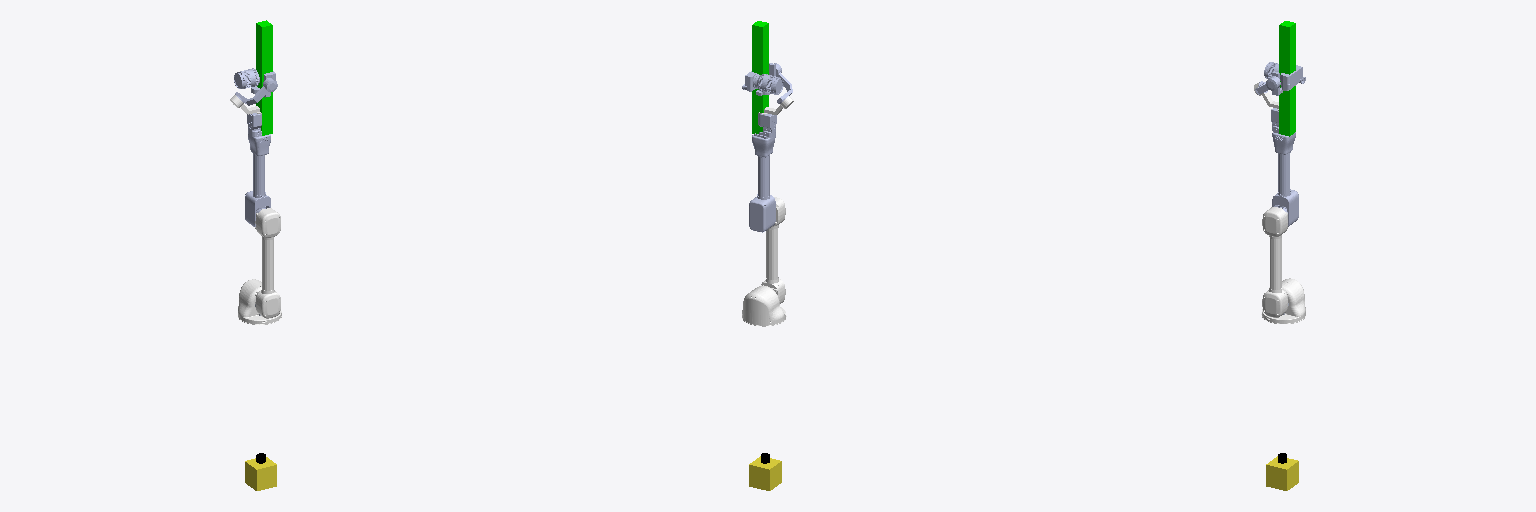
The robot description file, URDF, robot "recomoProto2-1190":
<?xml version="1.0" encoding="utf-8"?>
<!--
  RecomoProto2-190 MoveIt URDF

  Completed to match the current planning stack expectations:
  - planar mobile base virtual joints
  - arm_base_link mounting link
  - joint6/joint5/... naming convention
  - ee_tool and ee1_tool virtual tool links
-->
<robot
  name="recomoProto2-1190">
  <link name="base_root">
    <inertial>
      <origin xyz="0 0 0" rpy="0 0 0"/>
      <mass value="0.001"/>
      <inertia ixx="1e-08" ixy="0" ixz="0" iyy="1e-08" iyz="0" izz="1e-08"/>
    </inertial>
    <visual>
      <origin xyz="0 0 0" rpy="0 0 0"/>
      <geometry><box size="0.00 0.00 0.00"/></geometry>
      <material name="world_material">
        <color rgba="0.2 0.2 0.2 1"/>
      </material>
    </visual>
    <collision>
      <origin xyz="0 0 0" rpy="0 0 0"/>
      <geometry><box size="0.00 0.00 0.00"/></geometry>
    </collision>
  </link>

  <link name="base_vx_link">
    <inertial>
      <origin xyz="0 0 0" rpy="0 0 0"/>
      <mass value="0.1"/>
      <inertia ixx="0.0001" ixy="0" ixz="0" iyy="0.0001" iyz="0" izz="0.0001"/>
    </inertial>
    <visual>
      <origin xyz="0 0 0" rpy="0 0 0"/>
      <geometry><box size="0.00 0.00 0.00"/></geometry>
      <material name="base_gray_material">
        <color rgba="0.5 0.5 0.5 1"/>
      </material>
    </visual>
    <collision>
      <origin xyz="0 0 0" rpy="0 0 0"/>
      <geometry><box size="0.00 0.00 0.00"/></geometry>
    </collision>
  </link>

  <link name="base_vy_link">
    <inertial>
      <origin xyz="0 0 0" rpy="0 0 0"/>
      <mass value="0.1"/>
      <inertia ixx="0.0001" ixy="0" ixz="0" iyy="0.0001" iyz="0" izz="0.0001"/>
    </inertial>
    <visual>
      <origin xyz="0 0 0" rpy="0 0 0"/>
      <geometry><box size="0.00 0.00 0.00"/></geometry>
      <material name="base_gray_material">
        <color rgba="0.5 0.5 0.5 1"/>
      </material>
    </visual>
    <collision>
      <origin xyz="0 0 0" rpy="0 0 0"/>
      <geometry><box size="0.00 0.00 0.00"/></geometry>
    </collision>
  </link>

  <link name="base_wz_link">
    <inertial>
      <origin xyz="0 0 0" rpy="0 0 0"/>
      <mass value="0.1"/>
      <inertia ixx="0.0001" ixy="0" ixz="0" iyy="0.0001" iyz="0" izz="0.0001"/>
    </inertial>
    <visual>
      <origin xyz="0 0 2.000" rpy="0 0 0"/>
      <geometry><box size="0.00 0.00 0.00"/></geometry>
      <material name="base_gray_material">
        <color rgba="0.5 0.5 0.5 1"/>
      </material>
    </visual>
    <collision>
      <origin xyz="0 0 2.000" rpy="0 0 0"/>
      <geometry><box size="0.00 0.00 0.00"/></geometry>
    </collision>
  </link>

  <joint name="base_joint_vx" type="prismatic">
    <origin xyz="0 0 0" rpy="0 0 0" />
    <parent link="base_root" />
    <child link="base_vx_link" />
    <axis xyz="1 0 0" />
    <limit lower="-100" upper="100" effort="200" velocity="2.0" />
  </joint>

  <joint name="base_joint_vy" type="prismatic">
    <origin xyz="0 0 0" rpy="0 0 0" />
    <parent link="base_vx_link" />
    <child link="base_vy_link" />
    <axis xyz="0 1 0" />
    <limit lower="-100" upper="100" effort="200" velocity="2.0" />
  </joint>

  <joint name="base_joint_wz" type="continuous">
    <origin xyz="0 0 0" rpy="0 0 0" />
    <parent link="base_vy_link" />
    <child link="base_wz_link" />
    <axis xyz="0 0 1" />
    <limit lower="-3.1416" upper="3.1416" effort="30.0" velocity="0.5" />
  </joint>

  <link
    name="base_link">
    <inertial>
      <origin
        xyz="0.0055307 0.01516 0.31097"
        rpy="0 0 0" />
      <mass
        value="20" />
      <inertia
        ixx="0.14156"
        ixy="8.5545E-05"
        ixz="0.00013573"
        iyy="0.14292"
        iyz="-1.9204E-06"
        izz="0.19802" />
    </inertial>
    <visual>
      <origin
        xyz="0 0 0"
        rpy="0 0 0" />
      <geometry>
        <mesh
          filename="meshes/recomoProto2-190/base_link.STL" />
      </geometry>
      <material
        name="">
        <color
          rgba="1 1 1 1" />
      </material>
    </visual>
    <collision>
      <origin
        xyz="0 0 0"
        rpy="0 0 0" />
      <geometry>
        <mesh
          filename="meshes/recomoProto2-190/base_link.STL" />
      </geometry>
    </collision>
  </link>

  <joint name="base_link_fixed" type="fixed">
    <origin xyz="0 0 0" rpy="0 0 0" />
    <parent link="base_wz_link" />
    <child link="base_link" />
  </joint>

  <link
    name="arm_base_link">
    <inertial>
      <origin
        xyz="-0.00014044 0.00033905 -0.038979"
        rpy="0 0 0" />
      <mass
        value="0.095731" />
      <inertia
        ixx="3.5316E-05"
        ixy="1.4007E-17"
        ixz="-4.2483E-18"
        iyy="3.5316E-05"
        iyz="-1.3664E-18"
        izz="3.0657E-05" />
    </inertial>
    <visual>
      <origin
        xyz="0 0 0"
        rpy="0 0 0" />
      <geometry>
        <mesh
          filename="meshes/arm_base_Link.STL" />
      </geometry>
      <material
        name="">
        <color
          rgba="0.81176 0.84314 0.9098 1" />
      </material>
    </visual>
    <collision>
      <origin
        xyz="0 0 0"
        rpy="0 0 0" />
      <geometry>
        <mesh
          filename="meshes/arm_base_Link.STL" />
      </geometry>
    </collision>
  </link>

  <joint name="arm_base_joint" type="fixed">
    <origin
      xyz="0 0.01 0.7938"
      rpy="0 0 0" />
    <parent
      link="base_link" />
    <child
      link="arm_base_link" />
  </joint>

  <link
    name="arm_link_1">
    <inertial>
      <origin
        xyz="-0.00027729 0.01005 0.060567"
        rpy="0 0 0" />
      <mass
        value="0.91" />
      <inertia
        ixx="0.0007315"
        ixy="4.0673E-06"
        ixz="-1.703E-06"
        iyy="0.00068148"
        iyz="-7.0581E-05"
        izz="0.00062056" />
    </inertial>
    <visual>
      <origin
        xyz="0 0 0"
        rpy="0 0 0" />
      <geometry>
        <mesh
          filename="meshes/recomoProto2-190/arm_link_1.STL" />
      </geometry>
      <material
        name="">
        <color
          rgba="1 1 1 1" />
      </material>
    </visual>
    <collision>
      <origin
        xyz="0 0 0"
        rpy="0 0 0" />
      <geometry>
        <mesh
          filename="meshes/recomoProto2-190/arm_link_1.STL" />
      </geometry>
    </collision>
  </link>

  <joint name="joint6_arm_yaw" type="revolute">
    <origin
      xyz="0 0 0"
      rpy="0 0 0" />
    <parent
      link="arm_base_link" />
    <child
      link="arm_link_1" />
    <axis
      xyz="0 0 1" />
    <limit
      lower="-3.1416"
      upper="3.1416"
      effort="30"
      velocity="0.5" />
  </joint>

  <link
    name="arm_link_2">
    <inertial>
      <origin
        xyz="2.2679E-08 0.19924 0.037556"
        rpy="0 0 0" />
      <mass
        value="0.61" />
      <inertia
        ixx="0.0030576"
        ixy="6.4503E-08"
        ixz="-5.9336E-11"
        iyy="0.0003437"
        iyz="-1.2481E-10"
        izz="0.0031487" />
    </inertial>
    <visual>
      <origin
        xyz="0 0 0"
        rpy="0 0 0" />
      <geometry>
        <mesh
          filename="meshes/recomoProto2-190/arm_link_2.STL" />
      </geometry>
      <material
        name="">
        <color
          rgba="1 1 1 1" />
      </material>
    </visual>
    <collision>
      <origin
        xyz="0 0 0"
        rpy="0 0 0" />
      <geometry>
        <mesh
          filename="meshes/recomoProto2-190/arm_link_2.STL" />
      </geometry>
    </collision>
  </link>

  <joint name="joint5_arm_pitch" type="revolute">
    <origin
      xyz="0 -0.028 0.07788"
      rpy="1.5708 0 0" />
    <parent
      link="arm_link_1" />
    <child
      link="arm_link_2" />
    <axis
      xyz="0 0 1" />
    <limit
      lower="-1.57"
      upper="1.57"
      effort="30"
      velocity="0.5" />
  </joint>

  <link
    name="arm_link_3">
    <inertial>
      <origin
        xyz="-0.004989 -0.21609 0.034665"
        rpy="0 0 0" />
      <mass
        value="1.27" />
      <inertia
        ixx="0.0016994"
        ixy="3.3526E-07"
        ixz="3.4668E-06"
        iyy="0.00057506"
        iyz="4.4555E-06"
        izz="0.0016877" />
    </inertial>
    <visual>
      <origin
        xyz="0 0 0"
        rpy="0 0 0" />
      <geometry>
        <mesh
          filename="meshes/recomoProto2-190/arm_link_3.STL" />
      </geometry>
      <material
        name="arm_link_3_material">
        <color
          rgba="0.79216 0.81961 0.93333 1" />
      </material>
    </visual>
    <collision>
      <origin
        xyz="0 0 0"
        rpy="0 0 0" />
      <geometry>
        <mesh
          filename="meshes/recomoProto2-190/arm_link_3.STL" />
      </geometry>
    </collision>
  </link>

  <joint name="joint4_elbow_pitch" type="revolute">
    <origin
      xyz="0 0.4 0"
      rpy="3.1416 0 0" />
    <parent
      link="arm_link_2" />
    <child
      link="arm_link_3" />
    <axis
      xyz="0 0 1" />
    <limit
      lower="-2.3562"
      upper="2.3562"
      effort="30.0"
      velocity="0.5" />
  </joint>

  <link
    name="arm_link_4">
    <inertial>
      <origin
        xyz="-0.070164 2.4195E-16 0.042022"
        rpy="0 0 0" />
      <mass
        value="0.45" />
      <inertia
        ixx="0.00013075"
        ixy="1.5223E-18"
        ixz="0.00017126"
        iyy="0.00044213"
        iyz="-9.537E-19"
        izz="0.00034462" />
    </inertial>
    <visual>
      <origin
        xyz="0 0 0"
        rpy="0 0 0" />
      <geometry>
        <mesh
          filename="meshes/recomoProto2-190/arm_link_4.STL" />
      </geometry>
      <material
        name="">
        <color
          rgba="1 1 1 1" />
      </material>
    </visual>
    <collision>
      <origin
        xyz="0 0 0"
        rpy="0 0 0" />
      <geometry>
        <mesh
          filename="meshes/recomoProto2-190/arm_link_4.STL" />
      </geometry>
    </collision>
  </link>

  <joint name="joint3_gimbal_yaw" type="revolute">
    <origin
      xyz="0 -0.47088 0.028"
      rpy="1.5708 0 0" />
    <parent
      link="arm_link_3" />
    <child
      link="arm_link_4" />
    <axis
      xyz="0 0 1" />
    <limit
      lower="-3.1416"
      upper="3.1416"
      effort="10.0"
      velocity="0.5" />
  </joint>

  <link
    name="arm_link_5">
    <inertial>
      <origin
        xyz="-0.0017203 -0.063107 0.072647"
        rpy="0 0 0" />
      <mass
        value="0.45" />
      <inertia
        ixx="0.0006156"
        ixy="-6.2991E-06"
        ixz="1.0648E-05"
        iyy="0.0004255"
        iyz="0.00023199"
        izz="0.00022502" />
    </inertial>
    <visual>
      <origin
        xyz="0 0 0"
        rpy="0 0 0" />
      <geometry>
        <mesh
          filename="meshes/recomoProto2-190/arm_link_5.STL" />
      </geometry>
      <material
        name="">
        <color
          rgba="0.79216 0.81961 0.93333 1" />
      </material>
    </visual>
    <collision>
      <origin
        xyz="0 0 0"
        rpy="0 0 0" />
      <geometry>
        <mesh
          filename="meshes/recomoProto2-190/arm_link_5.STL" />
      </geometry>
    </collision>
  </link>

  <joint name="joint2_gimbal_roll" type="revolute">
    <origin
      xyz="-0.099888 0 0.077538"
      rpy="0 0.94248 0" />
    <parent
      link="arm_link_4" />
    <child
      link="arm_link_5" />
    <axis
      xyz="0 0 1" />
    <limit
      lower="-3.2"
      upper="1.57"
      effort="10.0"
      velocity="0.5" />
  </joint>

  <link
    name="arm_link_6">
    <inertial>
      <origin
        xyz="-0.0050729 0.033014 0.045516"
        rpy="0 0 0" />
      <mass
        value="0.24" />
      <inertia
        ixx="0.0002457"
        ixy="9.9849E-06"
        ixz="1.7169E-05"
        iyy="0.0001741"
        iyz="-7.7172E-05"
        izz="0.0001101" />
    </inertial>
    <visual>
      <origin
        xyz="0 0 0"
        rpy="0 0 0" />
      <geometry>
        <mesh
          filename="meshes/recomoProto2-190/arm_link_6.STL" />
      </geometry>
      <material
        name="">
        <color
          rgba="0.79216 0.81961 0.93333 1" />
      </material>
    </visual>
    <collision>
      <origin
        xyz="0 0 0"
        rpy="0 0 0" />
      <geometry>
        <mesh
          filename="meshes/recomoProto2-190/arm_link_6.STL" />
      </geometry>
    </collision>
  </link>

  <joint name="joint1_gimbal_pitch" type="revolute">
    <origin
      xyz="-0.0031465 -0.075 0.12575"
      rpy="-1.5708 -0.94248 0" />
    <parent
      link="arm_link_5" />
    <child
      link="arm_link_6" />
    <axis
      xyz="0 0 1" />
    <limit
      lower="-3.2"
      upper="1.57"
      effort="10.0"
      velocity="0.5" />
  </joint>

  <link
    name="cam_link">
    <inertial>
      <origin
        xyz="-0.0092646 -4.9407E-05 0.0061835"
        rpy="0 0 0" />
      <mass
        value="1.7" />
      <inertia
        ixx="0.0003447"
        ixy="-6.5753E-06"
        ixz="2.4463E-05"
        iyy="0.00056714"
        iyz="1.3806E-06"
        izz="0.00070106" />
    </inertial>
    <visual>
      <origin
        xyz="0 0 0"
        rpy="0 0 0" />
      <geometry>
        <mesh
          filename="meshes/recomoProto2-190/cam_link.STL" />
      </geometry>
      <material
        name="">
        <color
          rgba="0.79216 0.81961 0.93333 1" />
      </material>
    </visual>
    <collision>
      <origin
        xyz="0 0 0"
        rpy="0 0 0" />
      <geometry>
        <mesh
          filename="meshes/recomoProto2-190/cam_link.STL" />
      </geometry>
    </collision>
  </link>

  <joint name="camera_optical_center" type="fixed">
    <origin
      xyz="0 0.0065609 0.10147"
      rpy="0 -1.5708 0" />
    <parent
      link="arm_link_6" />
    <child
      link="cam_link" />
  </joint>

  <link name="ee_tool">
    <inertial>
      <origin xyz="0 0 0" rpy="0 0 0" />
      <mass value="0.001" />
      <inertia ixx="2.3333E-07" ixy="0" ixz="0" iyy="2.3333E-07" iyz="0" izz="5.0E-08" />
    </inertial>
    <visual>
      <origin xyz="0 0 0" rpy="0 0 0"/>
      <geometry><box size="0.02 0.02 0.02"/></geometry>
      <material name="ee_tool_red">
        <color rgba="1 0 0 1"/>
      </material>
    </visual>
    <collision>
      <origin xyz="0 0 0" rpy="0 0 0"/>
      <geometry><box size="0.02 0.02 0.02"/></geometry>
    </collision>
  </link>

  <joint name="ee_tool_fixed" type="fixed">
    <origin xyz="0 0 0" rpy="0 0 0" />
    <parent link="cam_link" />
    <child link="ee_tool" />
  </joint>

  <link name="ee1_tool">
    <inertial>
      <origin xyz="0 0 0" rpy="0 0 0" />
      <mass value="0.001" />
      <inertia ixx="2.3333E-07" ixy="0" ixz="0" iyy="2.3333E-07" iyz="0" izz="5.0E-08" />
    </inertial>
    <visual>
      <origin xyz="0 0 0" rpy="0 0 0"/>
      <geometry><box size="0.5 0.05 0.05"/></geometry>
      <material name="ee1_tool_green">
        <color rgba="0 1 0 1"/>
      </material>
    </visual>
  </link>

  <link name="ee1_rotz_link">
    <inertial>
      <origin xyz="0 0 0" rpy="0 0 0"/>
      <mass value="0.001"/>
      <inertia ixx="1e-06" ixy="0" ixz="0" iyy="1e-06" iyz="0" izz="1e-06"/>
    </inertial>
    <visual>
      <origin xyz="0 0 0" rpy="0 0 0"/>
      <geometry><box size="0.01 0.01 0.01"/></geometry>
      <material name="ee1_gray"><color rgba="0.5 0.5 0.5 1"/></material>
    </visual>
  </link>

  <link name="ee1_roty_link">
    <inertial>
      <origin xyz="0 0 0" rpy="0 0 0"/>
      <mass value="0.001"/>
      <inertia ixx="1e-06" ixy="0" ixz="0" iyy="1e-06" iyz="0" izz="1e-06"/>
    </inertial>
    <visual>
      <origin xyz="0 0 0" rpy="0 0 0"/>
      <geometry><box size="0.01 0.01 0.01"/></geometry>
      <material name="ee1_gray"><color rgba="0.5 0.5 0.5 1"/></material>
    </visual>
  </link>

  <link name="ee1_rotx_link">
    <inertial>
      <origin xyz="0 0 0" rpy="0 0 0"/>
      <mass value="0.001"/>
      <inertia ixx="1e-06" ixy="0" ixz="0" iyy="1e-06" iyz="0" izz="1e-06"/>
    </inertial>
    <visual>
      <origin xyz="0 0 0" rpy="0 0 0"/>
      <geometry><box size="0.01 0.01 0.01"/></geometry>
      <material name="ee1_gray"><color rgba="0.5 0.5 0.5 1"/></material>
    </visual>
  </link>

  <joint name="ee1_rot_z" type="revolute">
    <origin xyz="0.019693 -0.618316 0.024693" rpy="3.14159 0 1.5708" />
    <parent link="arm_link_3" />
    <child link="ee1_rotz_link" />
    <axis xyz="0 0 1" />
    <limit lower="-3.1416" upper="3.1416" effort="30.0" velocity="0.5" />
  </joint>

  <joint name="ee1_rot_y" type="revolute">
    <origin xyz="0 0 0" rpy="0 0 0" />
    <parent link="ee1_rotz_link" />
    <child link="ee1_roty_link" />
    <axis xyz="0 1 0" />
    <limit lower="-3.1416" upper="3.1416" effort="30.0" velocity="0.5" />
  </joint>

  <joint name="ee1_rot_x" type="revolute">
    <origin xyz="0 0 0" rpy="0 0 0" />
    <parent link="ee1_roty_link" />
    <child link="ee1_rotx_link" />
    <axis xyz="1 0 0" />
    <limit lower="-3.1416" upper="3.1416" effort="30.0" velocity="0.5" />
  </joint>

  <joint name="ee1_tool_mount_fixed" type="fixed">
    <origin xyz="0 0 0" rpy="0 0 0" />
    <parent link="ee1_rotx_link" />
    <child link="ee1_tool" />
  </joint>

  <!-- ═══════════════════════════════════════════════════════════════
       ros2_control HARDWARE INTERFACE
       Tells robot_state_publisher which joints are movable.
       Without this, RSP treats ALL joints as fixed (static TF only).
       Inlined from moveit_190/config/recomoProto2-1190.ros2_control.xacro.
       ═══════════════════════════════════════════════════════════════ -->
  <ros2_control name="FakeSystem" type="system">
    <hardware>
      <plugin>mock_components/GenericSystem</plugin>
    </hardware>
    <joint name="base_joint_vx">
      <command_interface name="position"/>
      <state_interface name="position"><param name="initial_value">0</param></state_interface>
      <state_interface name="velocity"/>
    </joint>
    <joint name="base_joint_vy">
      <command_interface name="position"/>
      <state_interface name="position"><param name="initial_value">0</param></state_interface>
      <state_interface name="velocity"/>
    </joint>
    <joint name="base_joint_wz">
      <command_interface name="position"/>
      <state_interface name="position"><param name="initial_value">0</param></state_interface>
      <state_interface name="velocity"/>
    </joint>
    <joint name="joint6_arm_yaw">
      <command_interface name="position"/>
      <state_interface name="position"><param name="initial_value">0</param></state_interface>
      <state_interface name="velocity"/>
    </joint>
    <joint name="joint5_arm_pitch">
      <command_interface name="position"/>
      <state_interface name="position"><param name="initial_value">0</param></state_interface>
      <state_interface name="velocity"/>
    </joint>
    <joint name="joint4_elbow_pitch">
      <command_interface name="position"/>
      <state_interface name="position"><param name="initial_value">0</param></state_interface>
      <state_interface name="velocity"/>
    </joint>
    <joint name="joint3_gimbal_yaw">
      <command_interface name="position"/>
      <state_interface name="position"><param name="initial_value">0</param></state_interface>
      <state_interface name="velocity"/>
    </joint>
    <joint name="joint2_gimbal_roll">
      <command_interface name="position"/>
      <state_interface name="position"><param name="initial_value">0</param></state_interface>
      <state_interface name="velocity"/>
    </joint>
    <joint name="joint1_gimbal_pitch">
      <command_interface name="position"/>
      <state_interface name="position"><param name="initial_value">0</param></state_interface>
      <state_interface name="velocity"/>
    </joint>
    <joint name="ee1_rot_z">
      <command_interface name="position"/>
      <state_interface name="position"><param name="initial_value">0</param></state_interface>
      <state_interface name="velocity"/>
    </joint>
    <joint name="ee1_rot_y">
      <command_interface name="position"/>
      <state_interface name="position"><param name="initial_value">0</param></state_interface>
      <state_interface name="velocity"/>
    </joint>
    <joint name="ee1_rot_x">
      <command_interface name="position"/>
      <state_interface name="position"><param name="initial_value">0</param></state_interface>
      <state_interface name="velocity"/>
    </joint>
  </ros2_control>

  <!-- ═══════════════════════════════════════════════════════════════
       CHASSIS SENSOR LINKS (merged from ros_car.urdf)
       These are fixed to base_link for perception TF lookups.
       ═══════════════════════════════════════════════════════════════ -->

  <!-- LiDAR sensor (tower top) -->
  <link name="laser_link">
    <visual>
      <origin xyz="0 0 0.075" rpy="0 0 0"/>
      <geometry><cylinder length="0.03" radius="0.02"/></geometry>
      <material name="sensor_black"><color rgba="0.0 0.0 0.0 0.5"/></material>
    </visual>
  </link>
  <joint name="laser_joint" type="fixed">
    <parent link="base_link"/>
    <child link="laser_link"/>
    <origin xyz="0 0 0.075" rpy="0 0 0"/>
  </joint>

  <!-- IMU sensor (chassis center) -->
  <link name="imu_link">
    <visual>
      <origin xyz="0 0 0.04" rpy="0 0 0"/>
      <geometry><box size="0.1 0.1 0.1"/></geometry>
    </visual>
  </link>
  <joint name="imu_joint" type="fixed">
    <parent link="base_link"/>
    <child link="imu_link"/>
    <origin xyz="0 0 0.04" rpy="0 0 0"/>
  </joint>

  <!-- Ground reference (for nav stack compatibility) -->
  <link name="base_footprint"/>
  <joint name="base_footprint_joint" type="fixed">
    <parent link="base_link"/>
    <child link="base_footprint"/>
    <origin xyz="0.0 0.0 -0.072" rpy="0 0 0"/>
  </joint>

</robot>

--- What the picture shows (computed from the rendered views, not written in the file) ---
The picture shows the robot from 3 angles, left to right: view 1: azimuth 30°, elevation 25°; view 2: azimuth 150°, elevation 25°; view 3: azimuth 330°, elevation 25°; orthographic projection.
Model recomoProto2-1190 with 21 links and 20 joints (9 revolute, 1 continuous, 2 prismatic, 8 fixed), rooted at base_root, posed all joints at 0.
Links seen in each view (by area): view 1: arm_link_2, arm_link_3, ee1_tool, arm_link_1, imu_link; view 2: arm_link_3, arm_link_1, ee1_tool, arm_link_2, imu_link, cam_link; view 3: arm_link_2, ee1_tool, arm_link_3, arm_link_1, imu_link, cam_link.
Boxes of the visible links, left/top/right/bottom form: arm_link_2: left=255, top=208, right=280, bottom=318; arm_link_3: left=245, top=113, right=270, bottom=226; ee1_tool: left=256, top=20, right=272, bottom=135; arm_link_1: left=238, top=279, right=281, bottom=324; imu_link: left=245, top=457, right=276, bottom=490; arm_link_3: left=749, top=113, right=776, bottom=232; arm_link_1: left=742, top=286, right=786, bottom=326; ee1_tool: left=752, top=21, right=768, bottom=133; arm_link_2: left=761, top=197, right=785, bottom=303; imu_link: left=749, top=456, right=781, bottom=490; cam_link: left=742, top=71, right=783, bottom=94; arm_link_2: left=1262, top=207, right=1287, bottom=317; ee1_tool: left=1279, top=21, right=1295, bottom=136; arm_link_3: left=1271, top=108, right=1298, bottom=226; arm_link_1: left=1261, top=278, right=1305, bottom=323; imu_link: left=1266, top=456, right=1298, bottom=490; cam_link: left=1264, top=62, right=1305, bottom=90.
Bounding box of the posed robot: 0.2308 × 0.201 × 2.14 m (x, y, z).
Meshes: 9 distinct files referenced, 8 mesh visuals loaded (8 binary STL); not drawn: 1 (reference not matched to a file when rendering).
